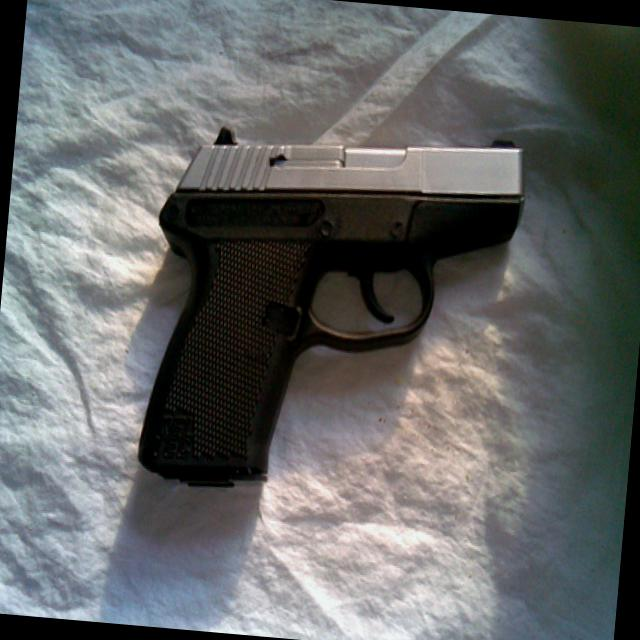handgun: (138, 106, 531, 510)
